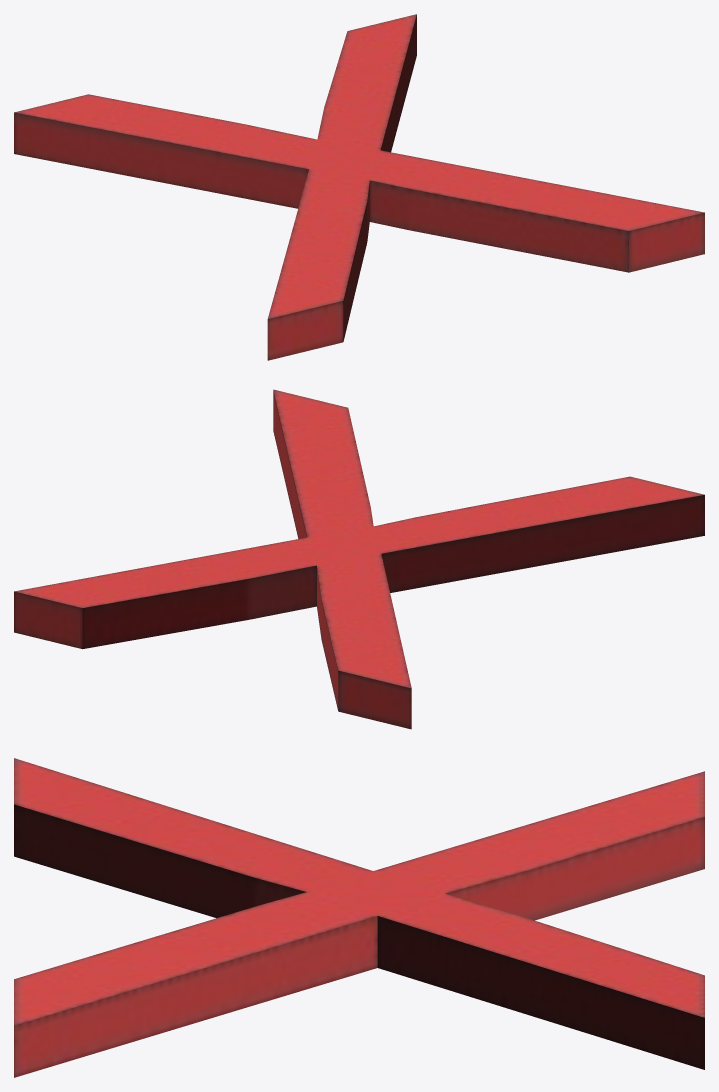
Rendered from xspot.obj.
The picture shows the model from 3 angles, top to bottom: view 1: azimuth 30°, elevation 25°; view 2: azimuth 150°, elevation 25°; view 3: azimuth 270°, elevation 25°; orthographic projection. The views are drawn at different scales.
Parts seen in each view (by area): view 1: Text001; view 2: Text001; view 3: Text001.
Boxes of the visible parts, x1,y1,x2,y2 form: Text001: [14, 14, 704, 360]; Text001: [14, 389, 704, 729]; Text001: [14, 758, 704, 1077].
Bounding box in the file's own units: 22.03 × 2 × 24.03.
1 material, 1 textured.
